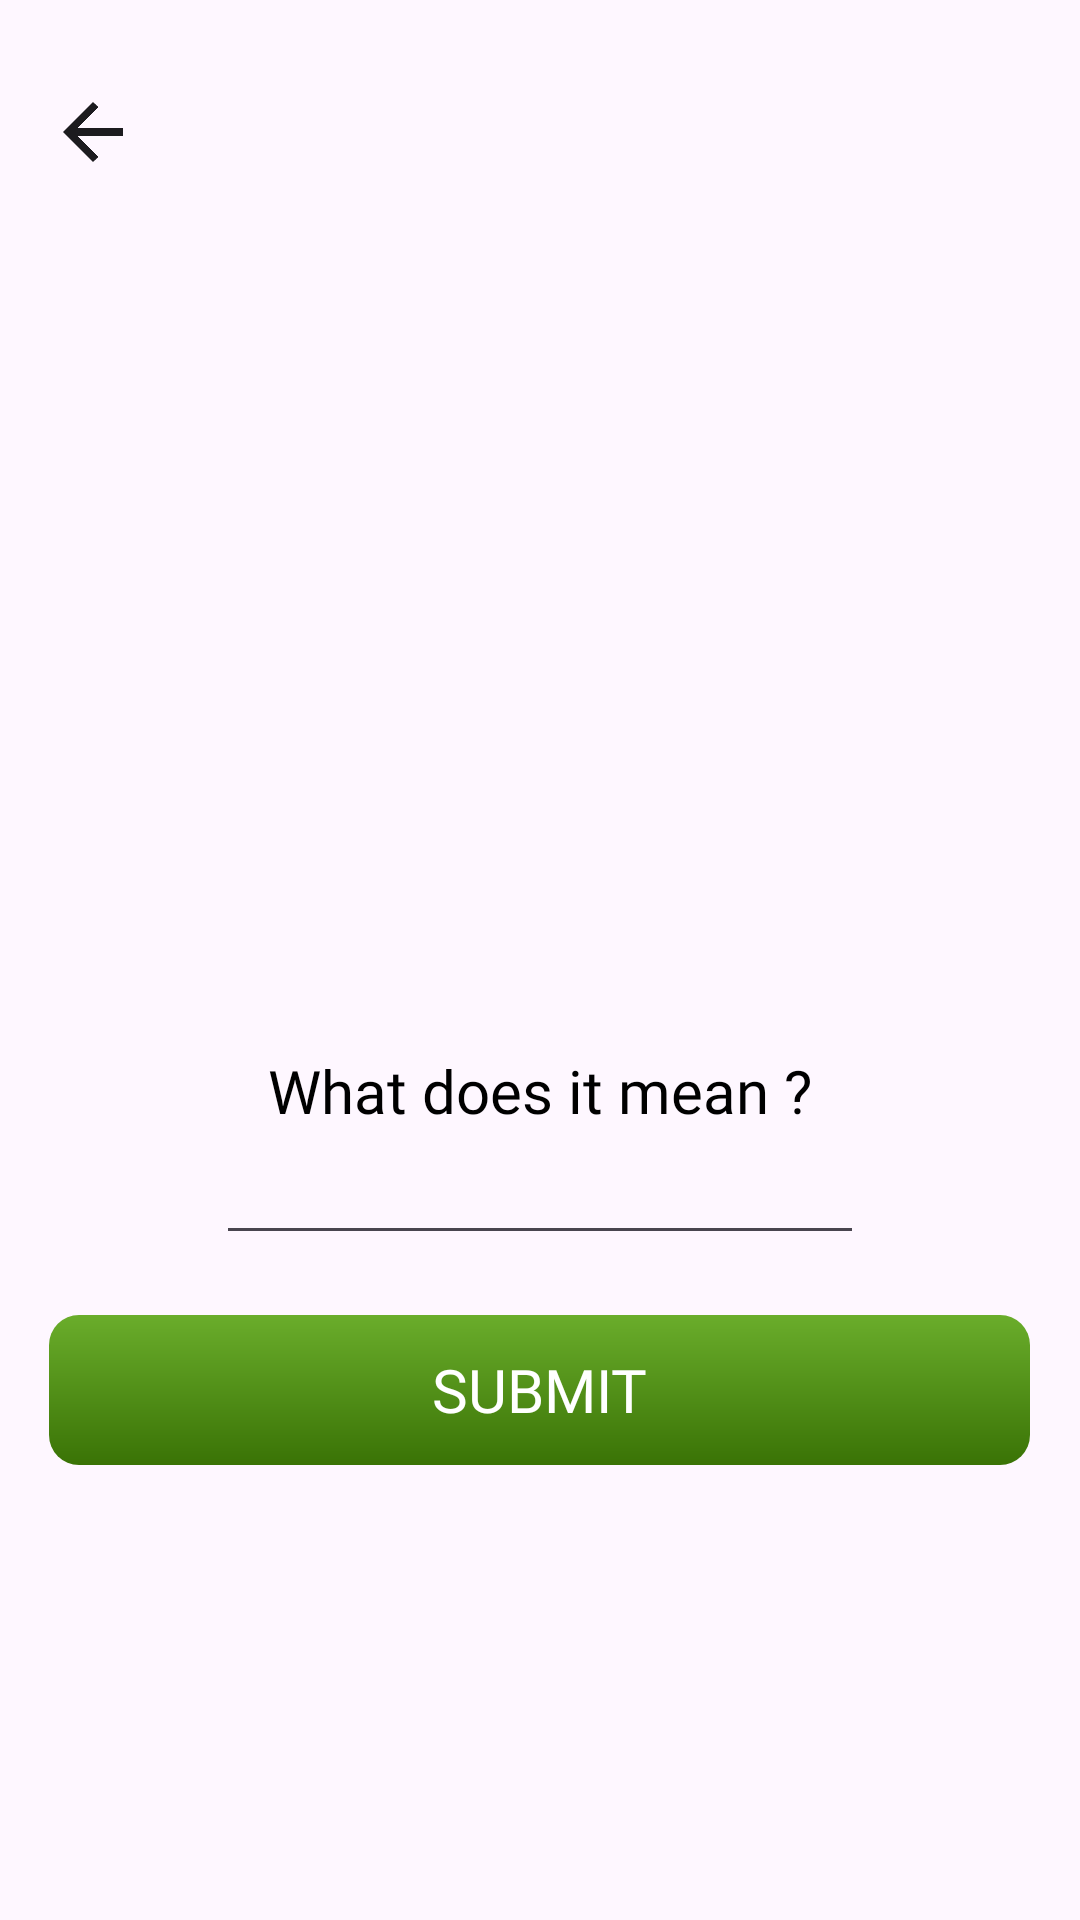

Icon bounding boxes for this 1080px×1920px phone screenshot, format (x1, y1, x2, y2):
arrow back: (63, 102, 123, 162)
